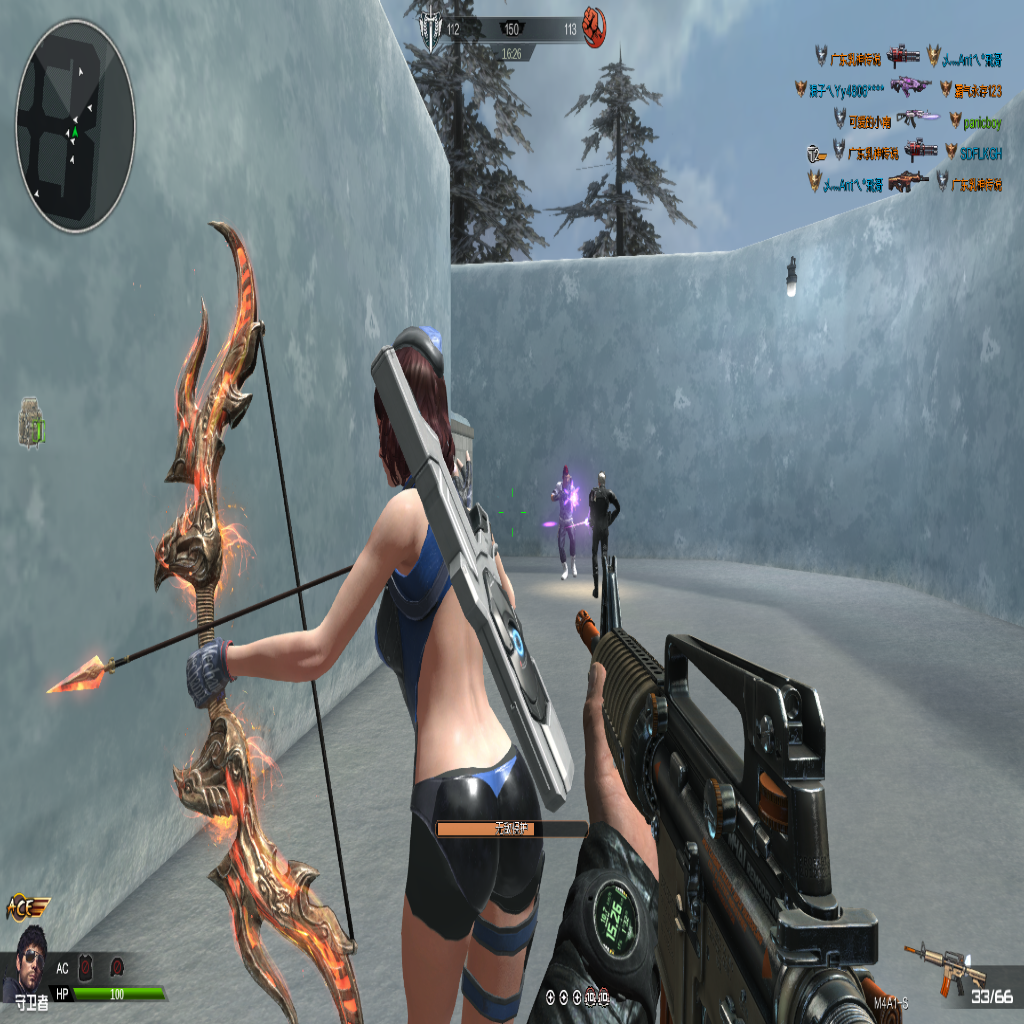ct: (587, 469, 618, 595)
tt: (551, 465, 579, 580)
